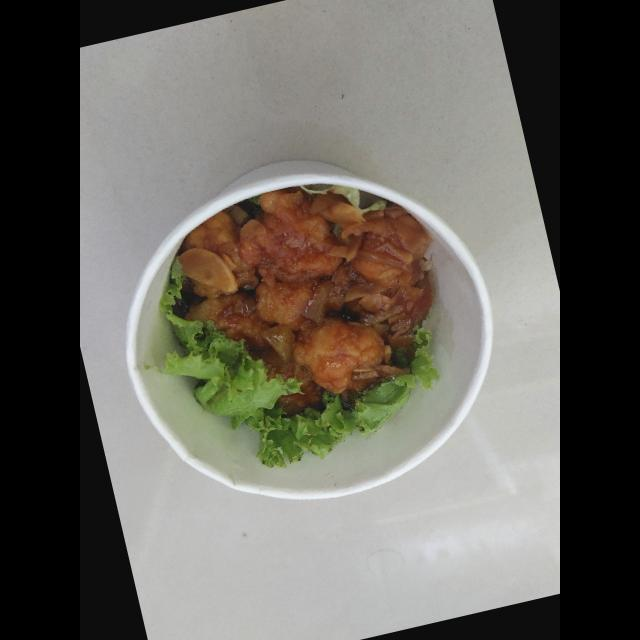rice-bowl: (80, 111, 532, 546)
